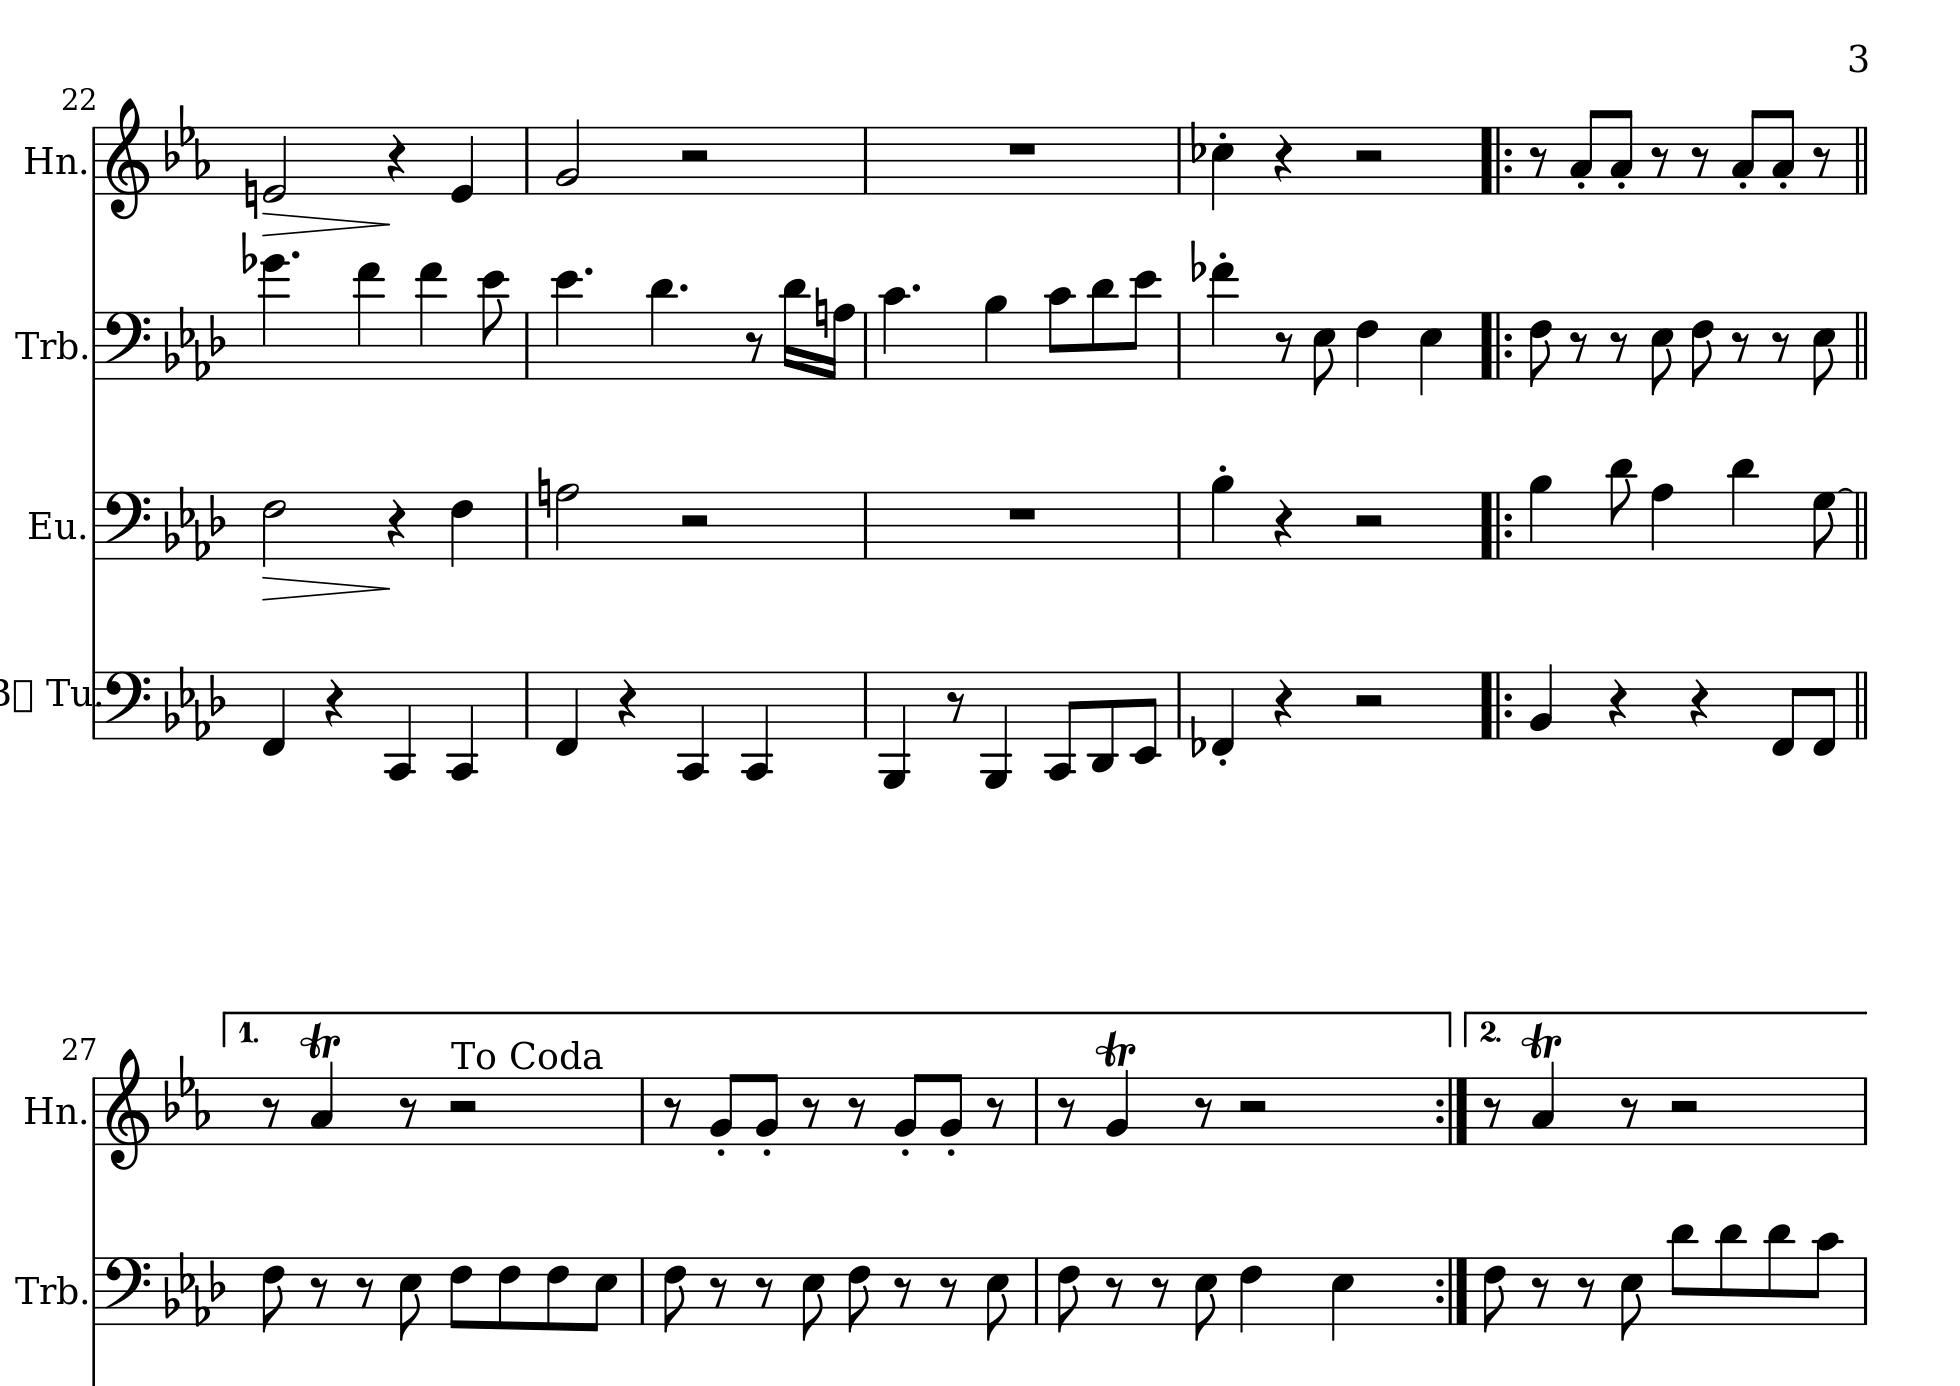16_11: (780, 276, 807, 382)
16_8: (823, 301, 856, 382)
2: (60, 85, 79, 111), (60, 1035, 79, 1060), (78, 85, 96, 111)
2_0: (261, 124, 289, 204)
2_2: (553, 115, 582, 195)
2_6: (261, 490, 286, 565)
2_8: (553, 480, 580, 562)
3: (1848, 40, 1870, 73)
4_-1: (259, 669, 286, 757), (553, 669, 580, 757), (1212, 669, 1236, 757)
4_-4: (676, 667, 709, 780), (741, 667, 774, 780), (385, 670, 415, 780), (447, 667, 475, 780)
4_-5: (877, 667, 912, 790), (981, 669, 1014, 790)
4_0: (450, 124, 475, 205)
4_10: (880, 285, 907, 381)
4_11: (646, 274, 676, 381)
4_12: (550, 268, 582, 381)
4_13: (415, 262, 445, 382), (1207, 262, 1237, 382), (354, 261, 382, 382)
4_14: (259, 253, 288, 379)
4_2: (1528, 661, 1555, 741), (1104, 1066, 1131, 1146)
4_3: (1530, 1059, 1557, 1144), (309, 1060, 334, 1144)
4_5: (1329, 1255, 1356, 1342), (1210, 124, 1236, 211), (1417, 310, 1443, 397)
4_6: (448, 487, 475, 568), (1353, 310, 1380, 388), (1239, 1255, 1263, 1333)
4_8: (1650, 481, 1675, 561)
4_9: (1209, 472, 1236, 562), (982, 292, 1009, 381), (1527, 472, 1554, 561)
7: (79, 1033, 97, 1060)
8_-1: (1770, 669, 1803, 757), (1812, 670, 1839, 757)
8_-2: (1131, 669, 1161, 763)
8_-3: (1089, 670, 1119, 772)
8_-4: (1044, 669, 1080, 780)
8_10: (1807, 1230, 1842, 1326), (1047, 285, 1074, 379)
8_11: (1716, 1219, 1746, 1327), (1668, 1219, 1698, 1326), (1089, 276, 1119, 381), (1764, 1221, 1794, 1326), (1728, 454, 1756, 562), (1608, 454, 1636, 561)
8_12: (1125, 268, 1162, 379), (480, 268, 508, 381)
8_2: (892, 1071, 925, 1144), (708, 1069, 739, 1144), (937, 1071, 964, 1144), (754, 1071, 778, 1144)
8_3: (1569, 108, 1602, 195), (1731, 108, 1762, 195), (1608, 106, 1635, 195), (1770, 106, 1797, 195)
8_5: (586, 1255, 618, 1332), (1810, 309, 1837, 396), (1311, 310, 1338, 396), (1648, 309, 1675, 394), (799, 1255, 826, 1341), (1192, 1255, 1219, 1341), (984, 1255, 1011, 1339), (1618, 1254, 1644, 1341), (397, 1255, 423, 1341)
8_6: (259, 1255, 288, 1332), (1527, 309, 1554, 387), (1689, 309, 1716, 387), (1482, 1255, 1509, 1333), (661, 1255, 688, 1332), (846, 1255, 873, 1332), (1056, 1255, 1083, 1332), (496, 1254, 522, 1330), (544, 1254, 570, 1330), (448, 1254, 474, 1329)
8_7: (1812, 489, 1837, 561)
A_F: (163, 483, 225, 562), (163, 1248, 225, 1326), (163, 661, 223, 741), (163, 306, 223, 381)
Crescendo_hairpin: (261, 574, 390, 601)
Double_barline: (1851, 310, 1873, 379), (1851, 487, 1872, 558), (1851, 124, 1872, 193)
E_F: (162, 1053, 211, 1129), (163, 103, 208, 180)
Fclef: (103, 309, 151, 381), (103, 489, 151, 561), (103, 667, 150, 739), (103, 1254, 150, 1324)
Flat: (1189, 712, 1206, 760), (240, 229, 256, 276), (1189, 120, 1206, 165), (1189, 238, 1206, 283)
Gclef: (103, 96, 150, 222), (105, 1047, 148, 1170)
Hn: (24, 1093, 78, 1129), (25, 144, 76, 178)
LeftRepeatSign: (1477, 669, 1515, 739), (1479, 310, 1515, 379), (1479, 490, 1515, 559), (1479, 124, 1513, 195)
Natural: (813, 285, 829, 339), (243, 166, 259, 219), (537, 466, 550, 520)
Rests1: (1005, 502, 1041, 522), (1005, 139, 1041, 157)
Rests2: (1350, 145, 1387, 166), (1350, 691, 1387, 712), (1350, 511, 1389, 531), (676, 511, 712, 532), (676, 147, 712, 166), (445, 1096, 481, 1116), (1236, 1096, 1270, 1116), (1668, 1096, 1701, 1116)
Rests4: (384, 496, 408, 550), (322, 676, 345, 730), (615, 676, 637, 730), (1272, 132, 1294, 184), (1272, 496, 1294, 549), (1606, 676, 1629, 729), (385, 133, 408, 184), (1272, 676, 1294, 727), (1689, 676, 1710, 729)
Rests8: (661, 1093, 684, 1129), (984, 1093, 1006, 1129), (943, 688, 967, 721), (1275, 328, 1296, 364), (1056, 1093, 1077, 1129), (1194, 1093, 1215, 1129), (1528, 144, 1549, 178), (1812, 144, 1833, 178), (742, 328, 763, 363), (261, 1093, 282, 1128), (397, 1095, 418, 1129), (799, 1093, 820, 1128), (1482, 1095, 1503, 1129), (1620, 1095, 1641, 1129), (1104, 1273, 1125, 1308), (1530, 1273, 1551, 1308), (1650, 144, 1671, 177), (1689, 144, 1710, 177), (1569, 328, 1590, 361), (1608, 328, 1629, 361), (1731, 328, 1752, 361), (1770, 328, 1791, 361), (892, 1273, 913, 1306), (937, 1273, 958, 1306), (847, 1093, 867, 1128), (309, 1273, 328, 1308), (355, 1273, 375, 1308), (708, 1273, 727, 1308), (1150, 1273, 1170, 1308), (1576, 1273, 1596, 1308), (754, 1273, 774, 1306)
RightRepeatSign: (1434, 1255, 1471, 1324), (1434, 1075, 1470, 1144)
Single_barline: (1170, 670, 1188, 738), (1170, 127, 1188, 192), (856, 312, 874, 376), (1029, 1255, 1045, 1324), (519, 127, 535, 193), (856, 127, 873, 193), (1171, 492, 1188, 558), (1029, 1075, 1045, 1141), (1857, 1077, 1873, 1143), (519, 492, 535, 556), (856, 493, 873, 558), (634, 1077, 651, 1141), (88, 670, 103, 739), (858, 670, 873, 739), (1858, 1255, 1873, 1324), (520, 670, 535, 738), (1171, 312, 1186, 378), (519, 313, 534, 376), (87, 490, 100, 559), (88, 124, 100, 193), (88, 1075, 100, 1144), (88, 312, 100, 379), (88, 1257, 100, 1324)
Slur: (1851, 669, 1875, 739)
ToCoda: (447, 1035, 597, 1074)
Trb: (12, 322, 78, 364), (12, 1266, 78, 1306)
Trill: (297, 1021, 343, 1060), (1095, 1027, 1135, 1069), (1522, 1024, 1563, 1057)
dot: (262, 210, 388, 237), (676, 280, 690, 295), (909, 280, 922, 295), (582, 264, 595, 277), (289, 246, 301, 261)
